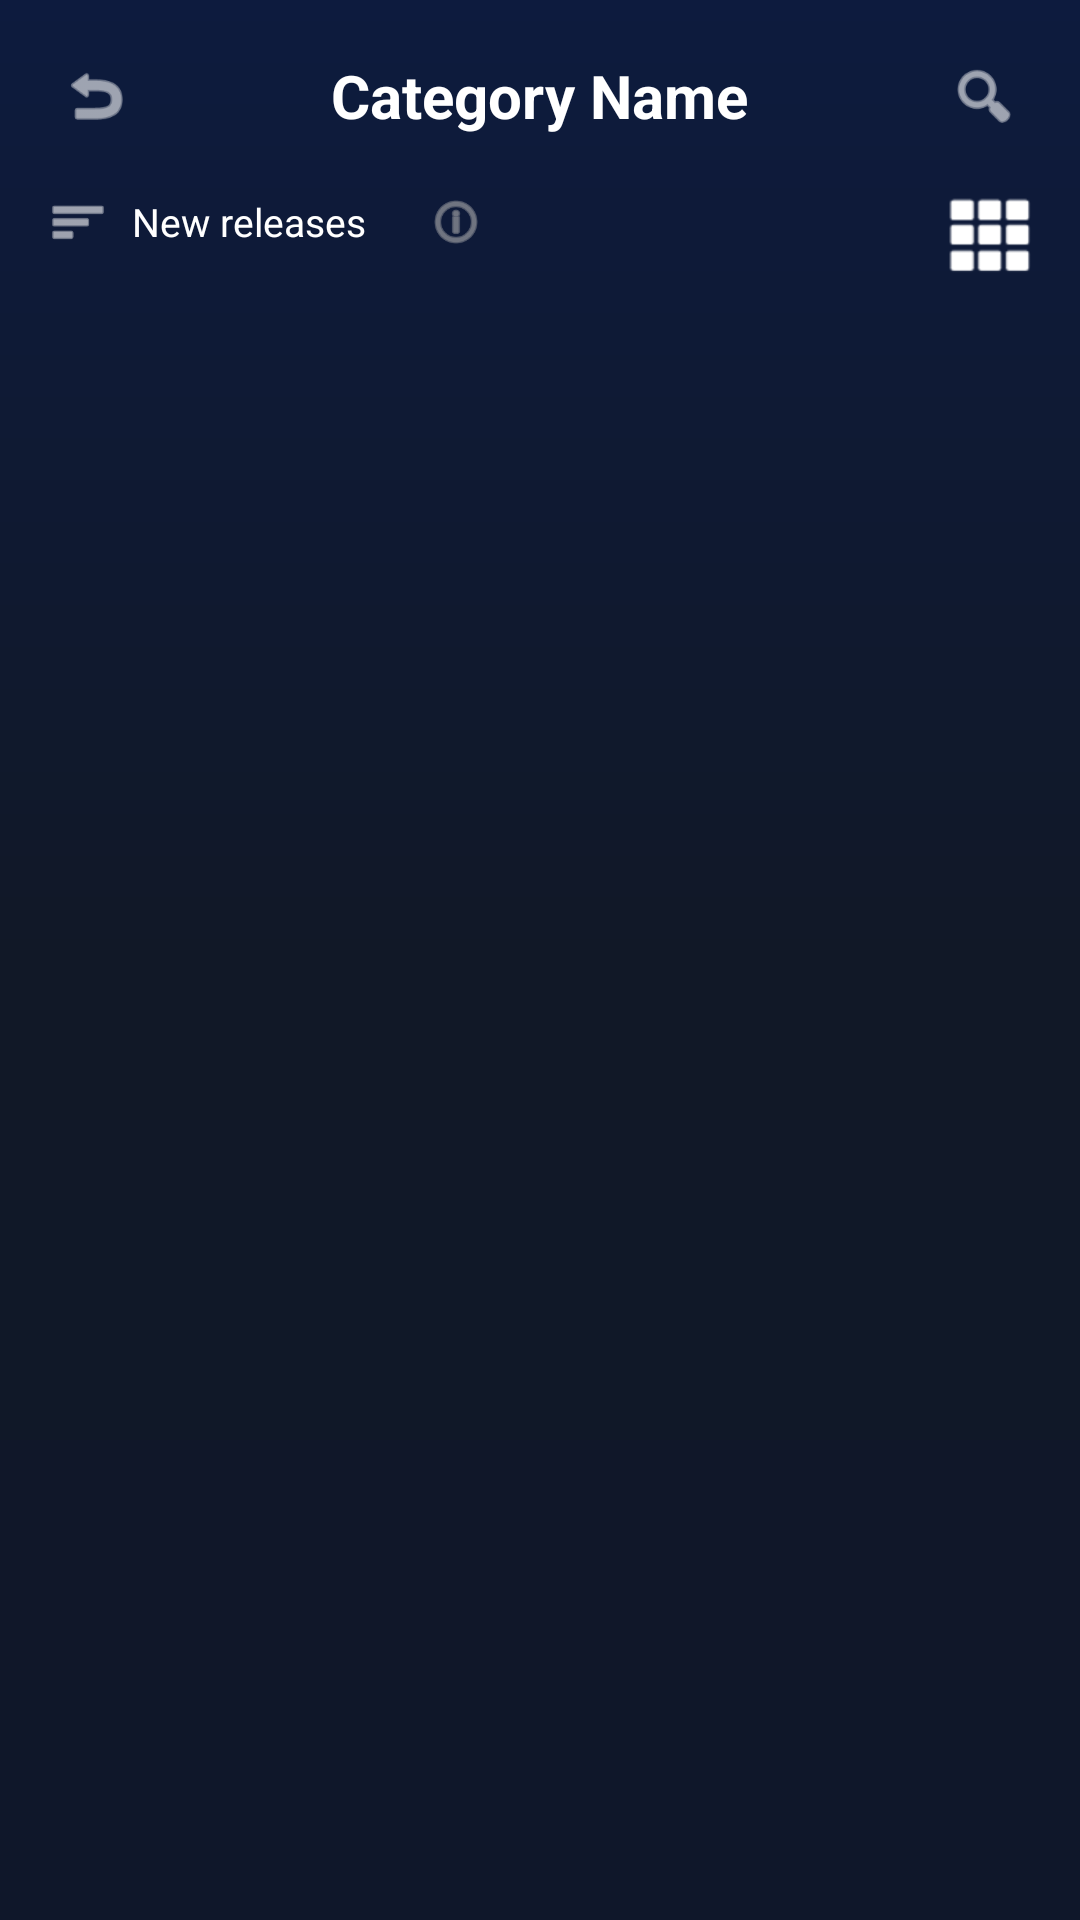

Where icons sit on this 1080*1920 app screen, as (x1, y1, x2, y2):
dialer: (949, 199, 1030, 271)
info details: (434, 201, 478, 243)
revert: (71, 73, 123, 120)
search: (957, 70, 1011, 123)
sort by size: (52, 205, 104, 239)
